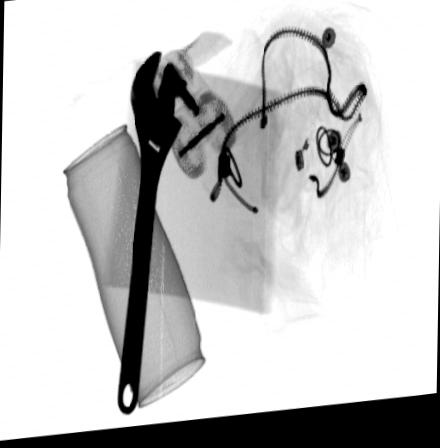Wrench: (116, 51, 183, 417)
